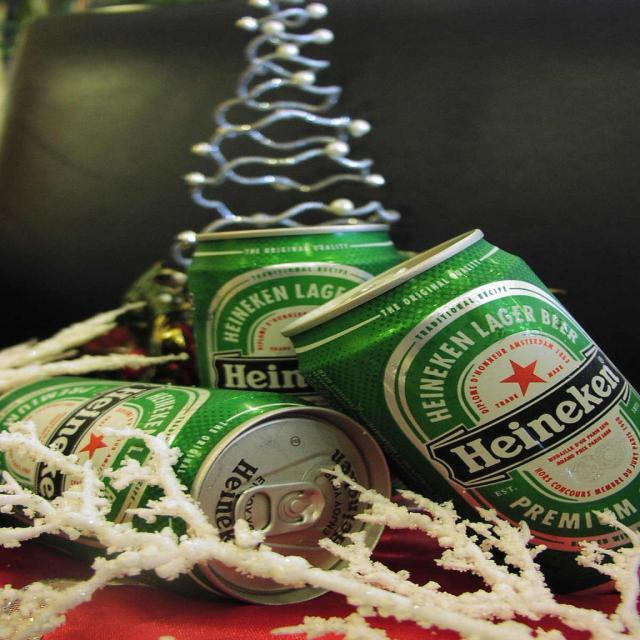heineken: (385, 281, 640, 551), (2, 379, 213, 526), (209, 262, 377, 403)
